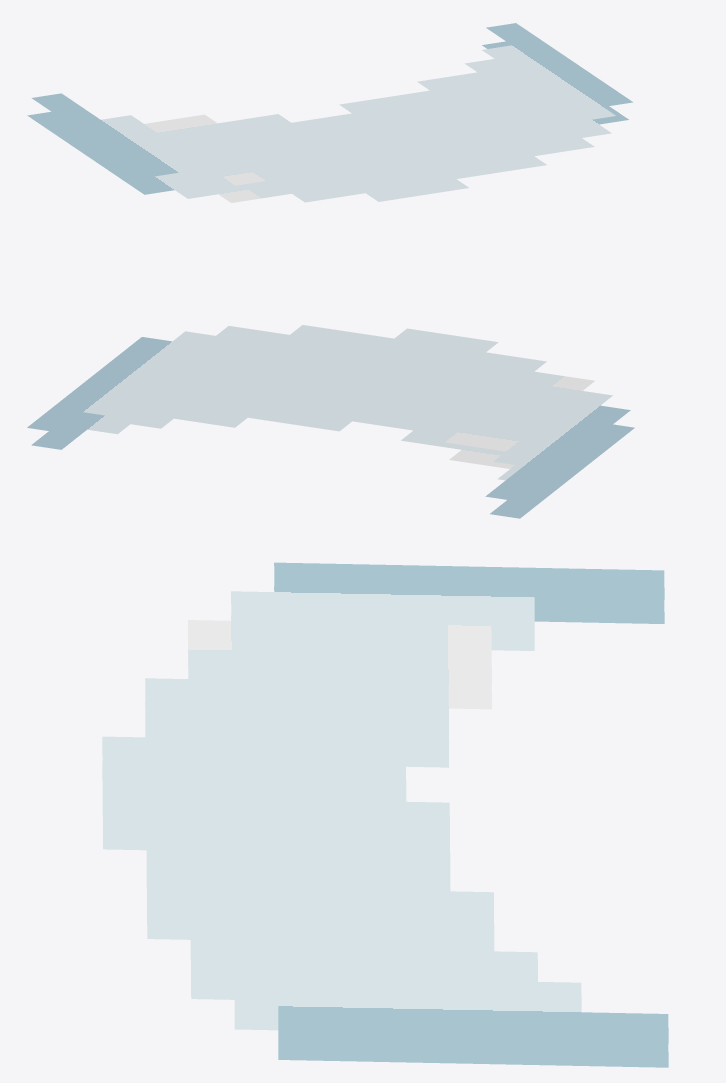
Rendered from slash1.gltf.
3 views of the same model, one above another, from view 1: azimuth 30°, elevation 25°; view 2: azimuth 150°, elevation 25°; view 3: azimuth 270°, elevation 25° (orthographic). The views are drawn at different scales.
Visible parts, largest first — view 1: plane (×2); view 2: plane (×2); view 3: plane (×2).
Boxes of the visible parts, <box> form: plane (×2): <box>27,23,632,202</box>; plane (×2): <box>27,325,634,518</box>; plane (×2): <box>102,562,668,1067</box>.
Bounding box in the file's own units: 1.89 × 0.2587 × 1.38.
1 material, 1 textured.
